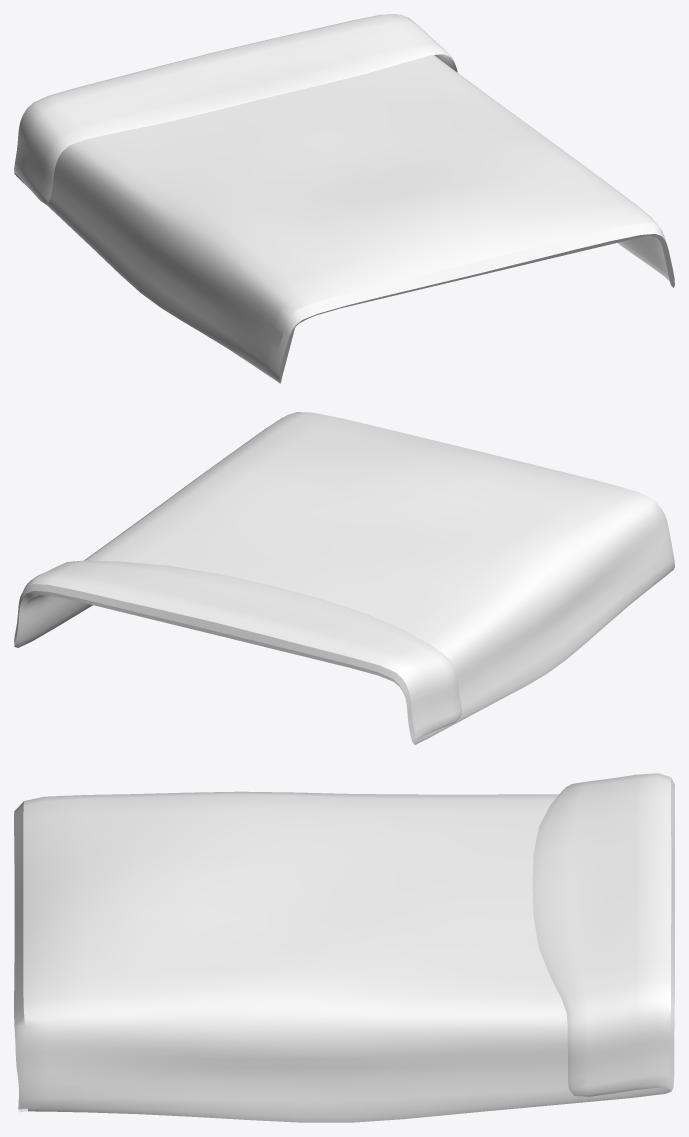
File: 2lyster_platform.fbx
3 views of the same model, one above another, from view 1: azimuth 30°, elevation 25°; view 2: azimuth 150°, elevation 25°; view 3: azimuth 270°, elevation 25° (orthographic). The views are drawn at different scales.
Visible parts, largest first — view 1: Lyster Platform Bed.004; view 2: Lyster Platform Bed.004; view 3: Lyster Platform Bed.004.
Boxes of the visible parts, <box> form: Lyster Platform Bed.004: <box>14,14,674,383</box>; Lyster Platform Bed.004: <box>14,412,674,744</box>; Lyster Platform Bed.004: <box>14,773,674,1122</box>.
Size of the model in its own units: 1.87 by 0.4351 by 2.07.
